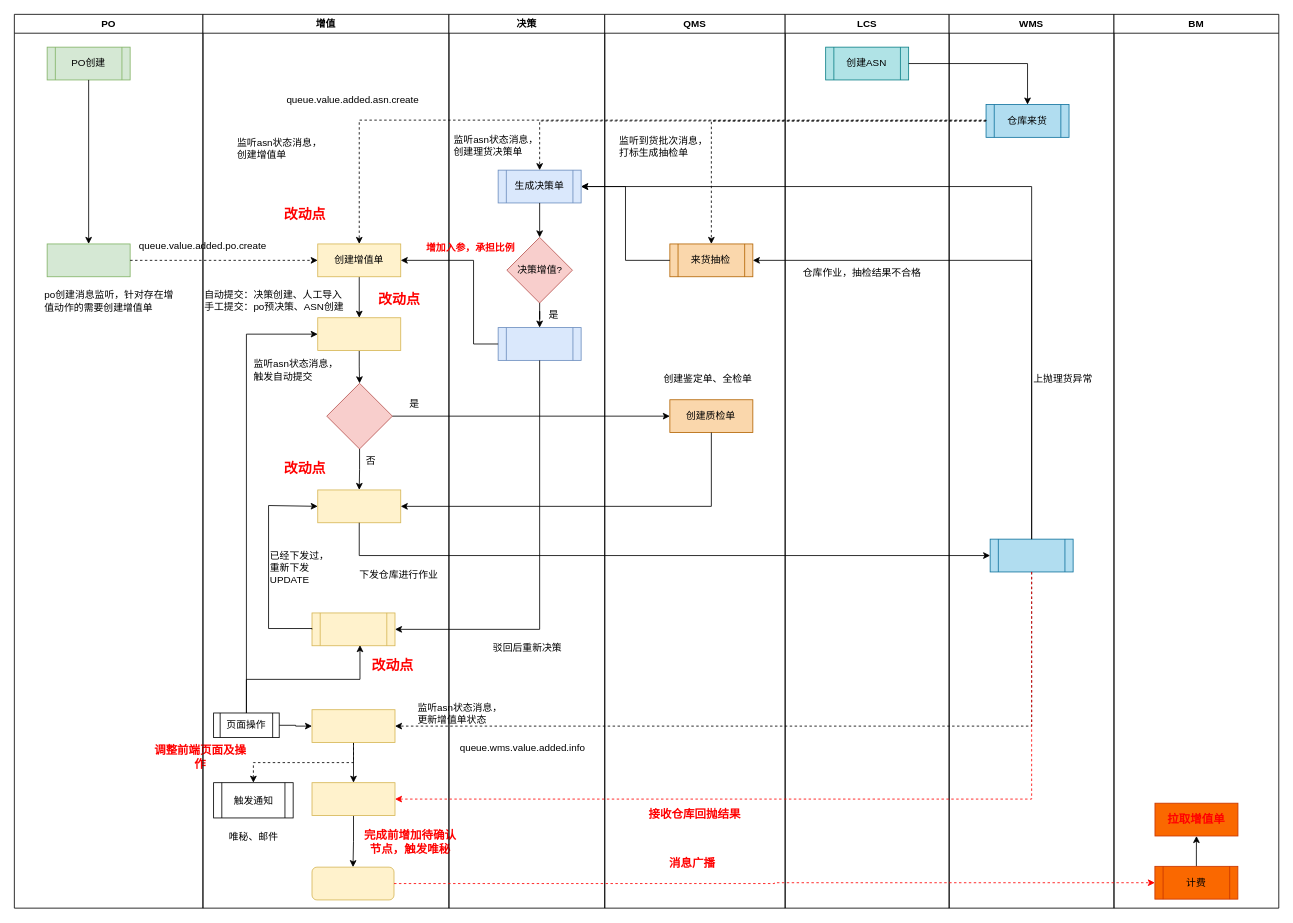
Some shapes in this 1293 by 923 pixel diagram are drawn without their labels. The shapes that lost their labels are listed below. From the top down, each one's centre as x and y in pixels, then its label:
point 88,260: po创建消息
point 359,334: 提交增值单
point 539,343: 商务/自动决策增值
point 359,416: 包含全检or鉴定？
point 359,506: 下发增值单
point 1031,555: 仓库作业
point 353,629: 增值单修改
point 353,726: 增值状态流转
point 353,798: 执行结果录入
point 352,883: 完成
